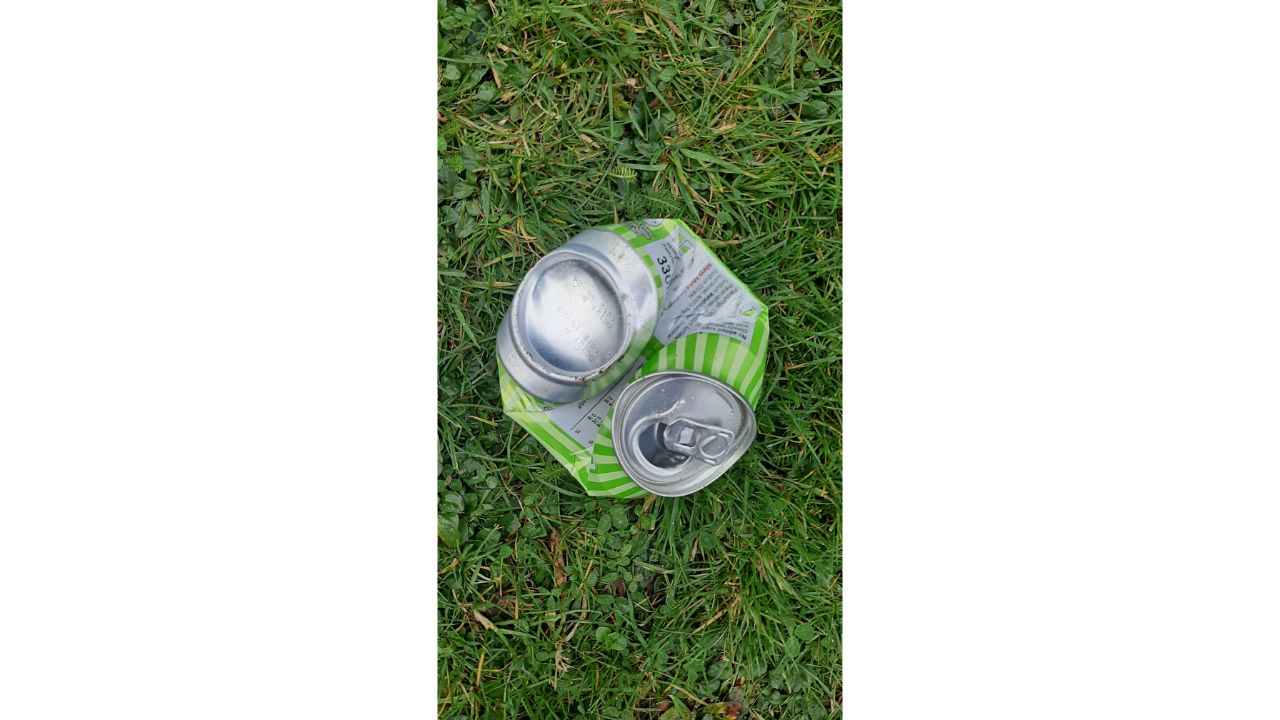Can: (491, 221, 774, 504)
